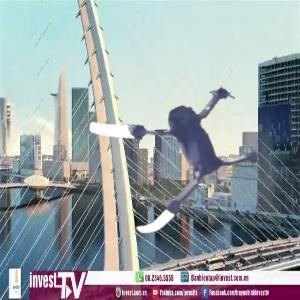drone: (80, 49, 275, 244)
